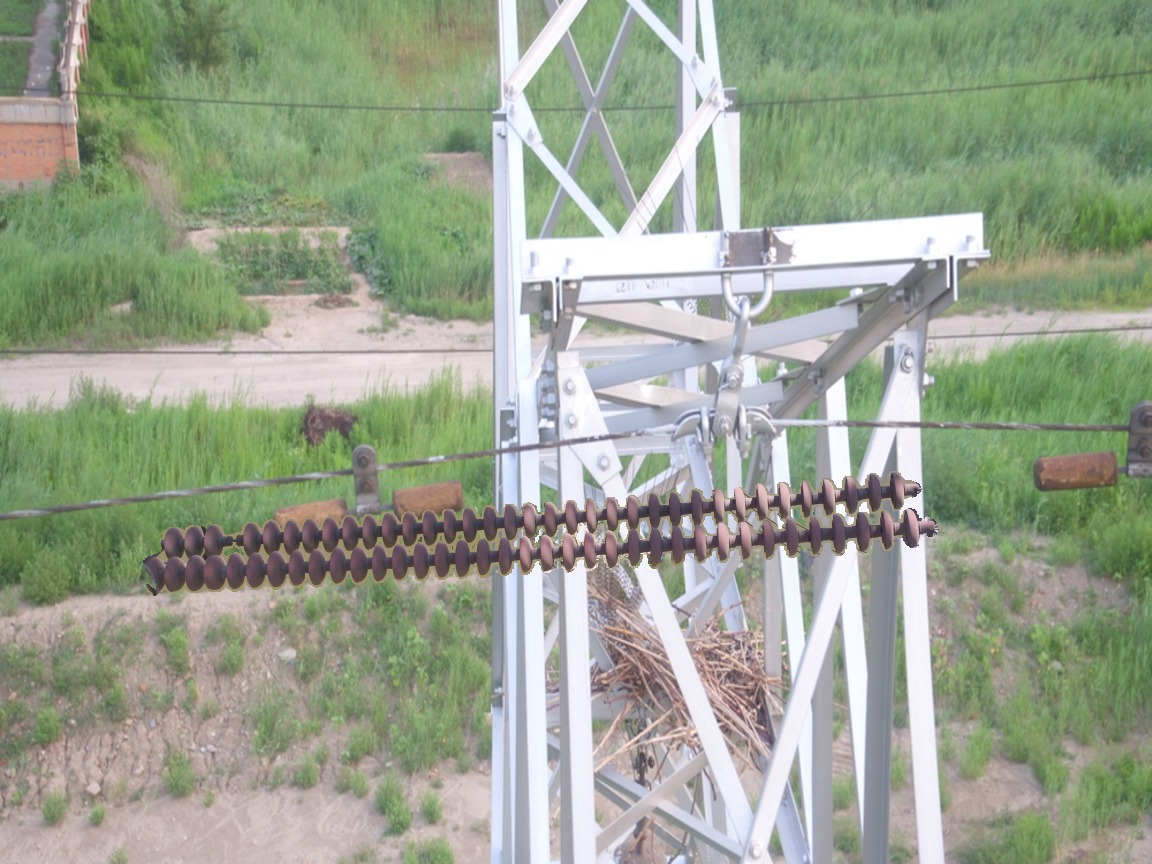defect: (201, 519, 261, 559)
